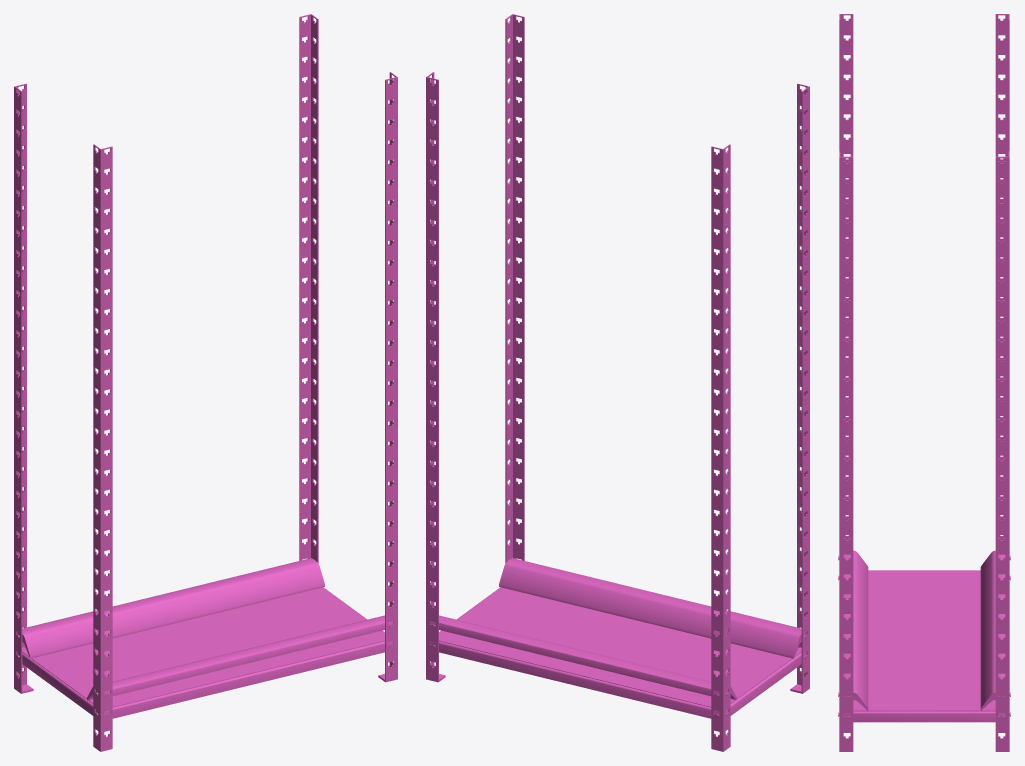
The model's file is service_metal_rack.fbx.
3 views of the same model, side by side, from view 1: azimuth 30°, elevation 25°; view 2: azimuth 150°, elevation 25°; view 3: azimuth 270°, elevation 25° (orthographic).
Visible parts, largest first — view 1: service_rack, service_rack_shelf, service_rack_tire_shelf; view 2: service_rack, service_rack_shelf, service_rack_tire_shelf; view 3: service_rack, service_rack_shelf, service_rack_tire_shelf.
Boxes of the visible parts, bbox=[...] form: service_rack: bbox=[14, 14, 397, 751]; service_rack_shelf: bbox=[16, 587, 393, 718]; service_rack_tire_shelf: bbox=[16, 558, 393, 700]; service_rack: bbox=[426, 14, 809, 751]; service_rack_shelf: bbox=[430, 587, 807, 718]; service_rack_tire_shelf: bbox=[430, 558, 807, 700]; service_rack: bbox=[839, 14, 1009, 751]; service_rack_shelf: bbox=[838, 570, 1010, 722]; service_rack_tire_shelf: bbox=[838, 550, 1010, 710].
Size of the model in its own units: 156 by 300 by 78.66.
